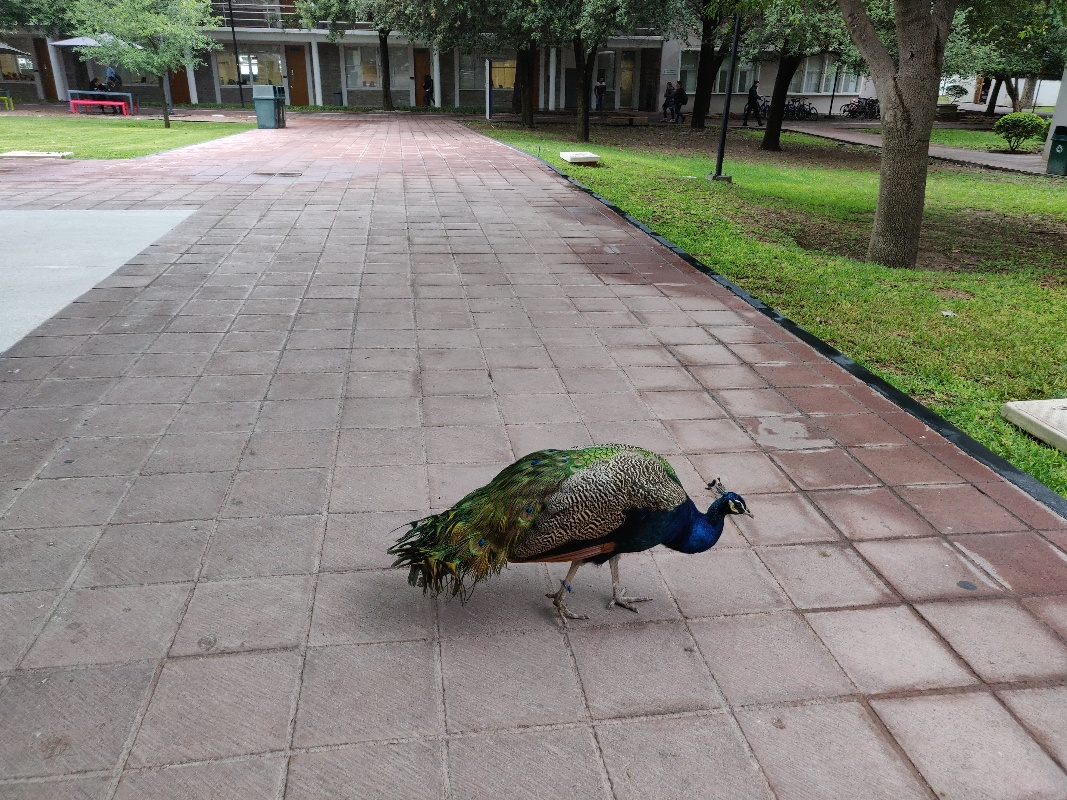pavoreal: (403, 443, 758, 628)
